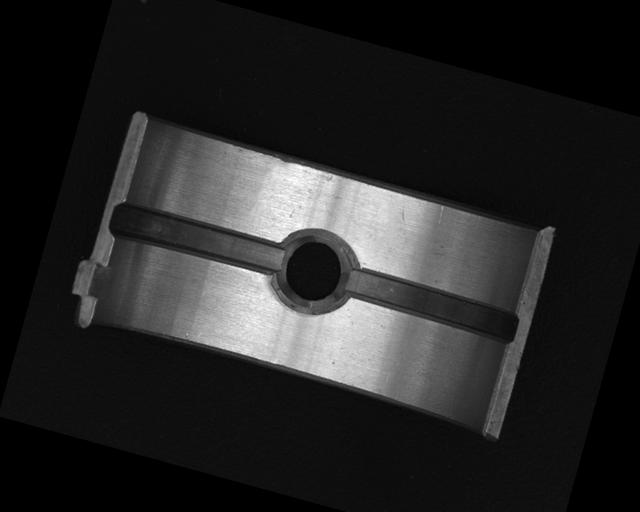gap: (334, 259, 524, 347), (106, 197, 289, 283)
hole: (266, 223, 361, 320)
nick: (434, 204, 447, 226)
